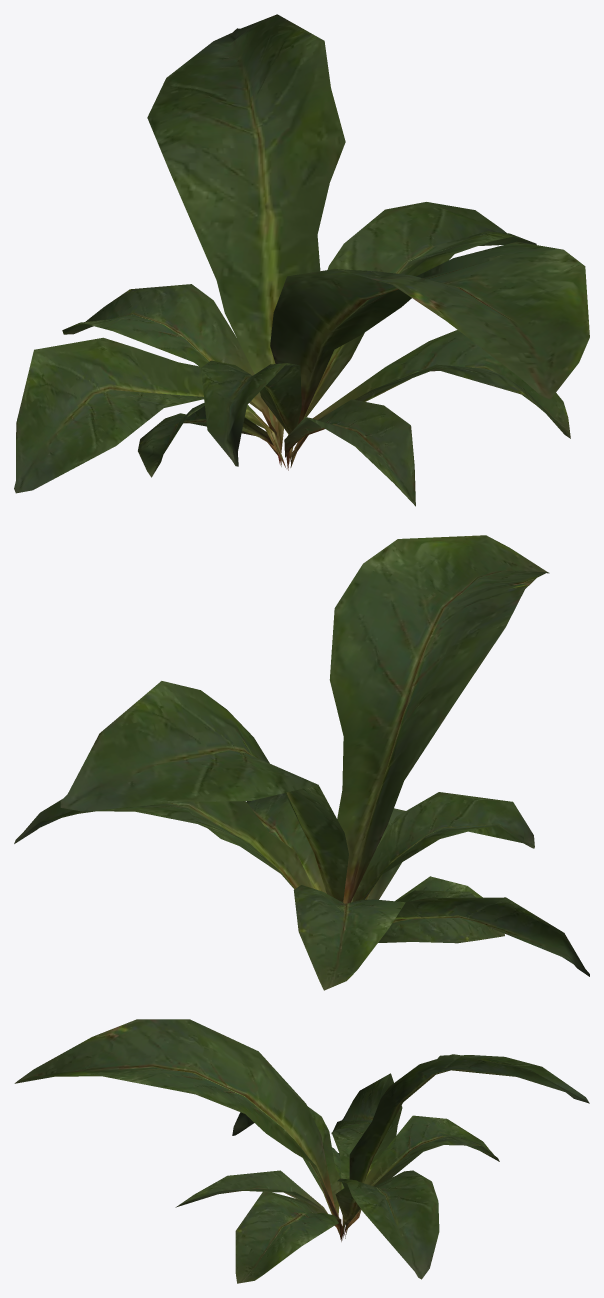
The model's file is plant_anthurium.glb.
3 views of the same model, one above another, from view 1: azimuth 30°, elevation 25°; view 2: azimuth 150°, elevation 25°; view 3: azimuth 270°, elevation 25° (orthographic). The views are drawn at different scales.
Parts seen in each view (by area): view 1: plant_anthurium; view 2: plant_anthurium; view 3: plant_anthurium.
Boxes of the visible parts, bbox=[...] form: plant_anthurium: bbox=[14, 14, 589, 506]; plant_anthurium: bbox=[14, 535, 589, 990]; plant_anthurium: bbox=[14, 1019, 589, 1283].
Bounding box in the file's own units: 0.8909 × 0.4981 × 1.14.
1 material, 1 textured.
